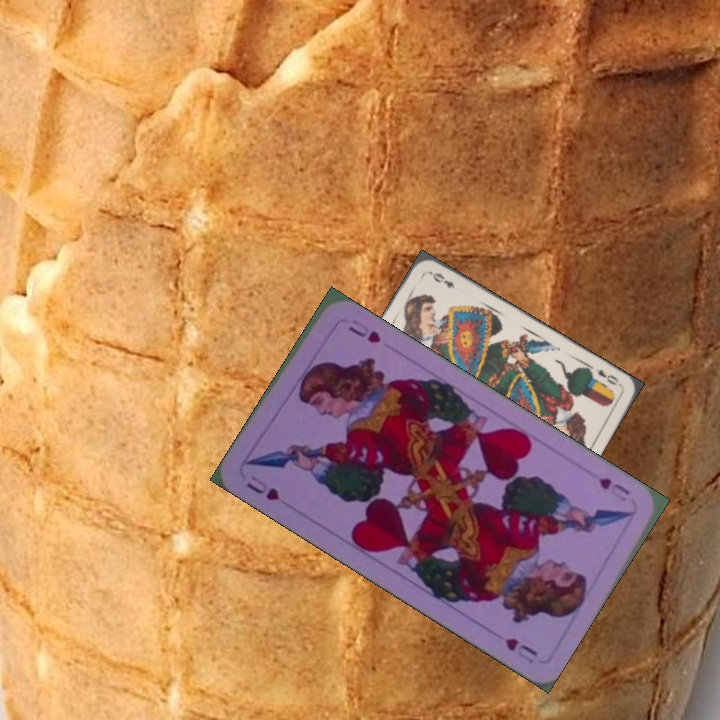EO: (592, 365, 624, 389)
HU: (242, 471, 283, 504), (594, 473, 633, 504)
